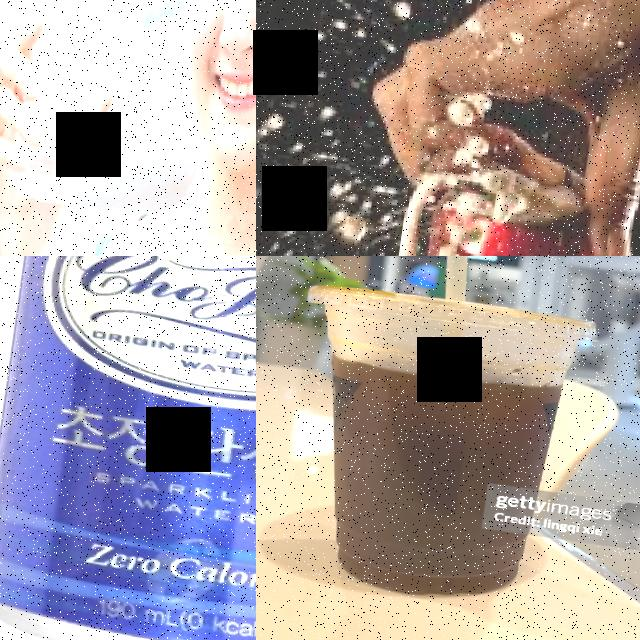bottle: (3, 0, 132, 217)
can: (0, 256, 256, 640)
cup: (266, 279, 598, 615)
